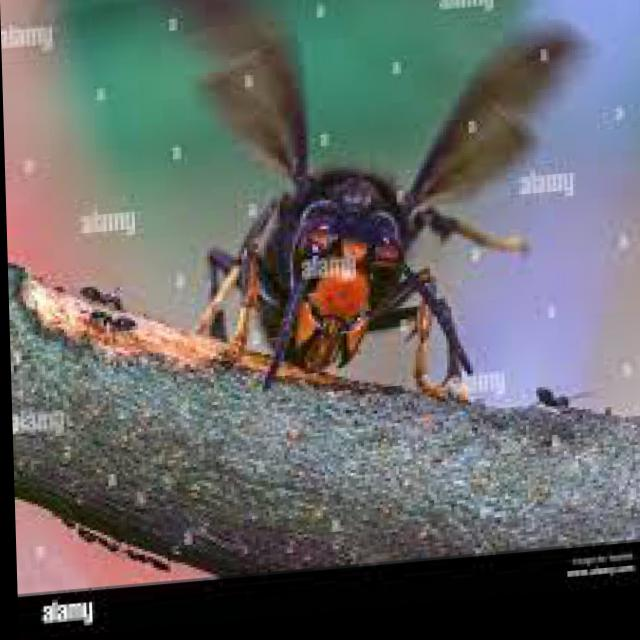Vespa Velutina: (152, 0, 602, 440)
